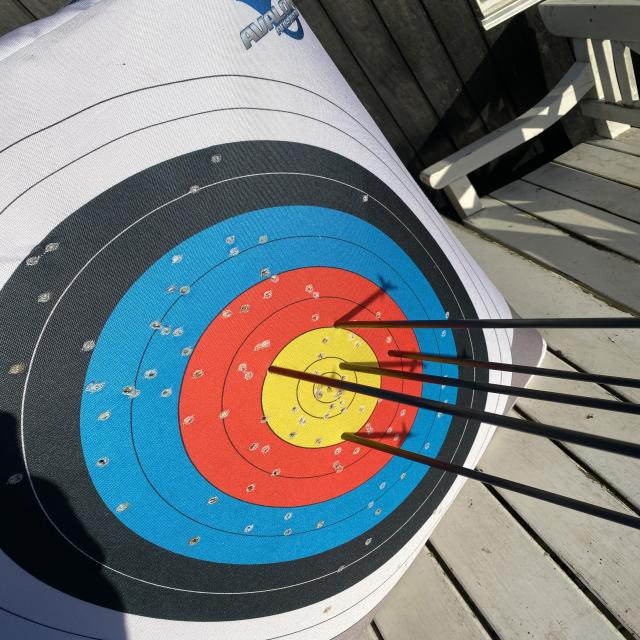Arrow_Red: (320, 314, 364, 340), (377, 341, 421, 367)
Arrow_Yellow: (260, 357, 298, 387), (332, 358, 377, 382), (336, 421, 362, 458)
